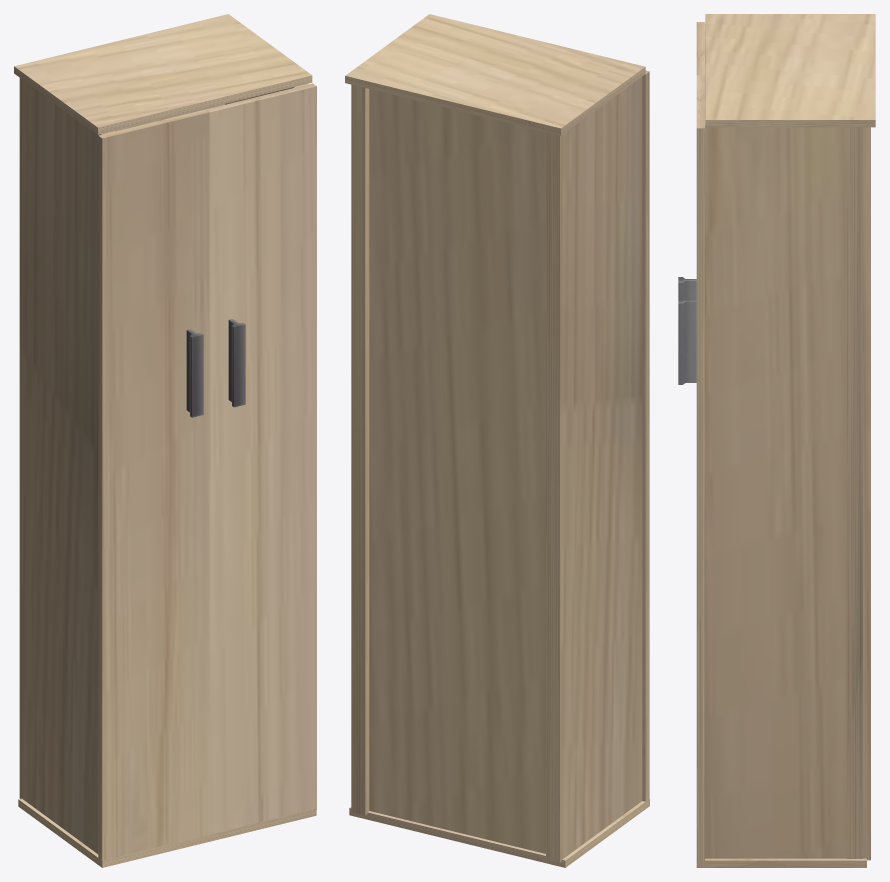
Rendered from cabinet.fbx.
3 views of the same model, side by side, from view 1: azimuth 30°, elevation 25°; view 2: azimuth 150°, elevation 25°; view 3: azimuth 270°, elevation 25° (orthographic).
Parts seen in each view (by area): view 1: pCube4, pasted__pCube4, pasted__pCube1, pCube3, pasted__pCube3, pasted__pCube5, pCube5; view 2: pCube1, pasted__pCube1, pCube3, pasted__pasted__pCube1, pCube4, pasted__pCube3; view 3: pasted__pasted__pCube1, pCube3, pCube1, pasted__pCube4, pasted__pCube3, pCube5, pCube4, pasted__pCube5.
Boxes of the visible parts, box(x1,y1,x2,y2) form: pCube4: box(98, 109, 209, 860); pasted__pCube4: box(206, 83, 316, 834); pasted__pCube1: box(19, 78, 114, 853); pCube3: box(14, 14, 312, 134); pasted__pCube3: box(18, 798, 316, 867); pasted__pCube5: box(186, 329, 203, 417); pCube5: box(228, 319, 245, 407); pCube1: box(369, 89, 545, 853); pasted__pCube1: box(546, 76, 642, 862); pCube3: box(345, 14, 645, 135); pasted__pasted__pCube1: box(351, 84, 369, 815); pCube4: box(642, 70, 649, 801); pasted__pCube3: box(349, 799, 649, 867); pasted__pasted__pCube1: box(705, 119, 870, 860); pCube3: box(705, 14, 875, 127); pCube1: box(846, 127, 862, 858); pasted__pCube4: box(696, 75, 704, 862); pasted__pCube3: box(696, 858, 866, 867); pCube5: box(678, 298, 696, 384); pCube4: box(696, 22, 704, 74); pasted__pCube5: box(678, 277, 696, 299).
Bounding box in the file's own units: 31.03 × 102 × 24.33.
3 materials, 2 textured.
